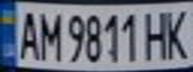1: (118, 9, 142, 63), (103, 10, 121, 63)
8: (81, 10, 106, 63)
9: (63, 9, 84, 63)
A: (12, 7, 42, 61)
H: (142, 7, 172, 61)
K: (160, 4, 193, 61)
M: (33, 7, 63, 61)
